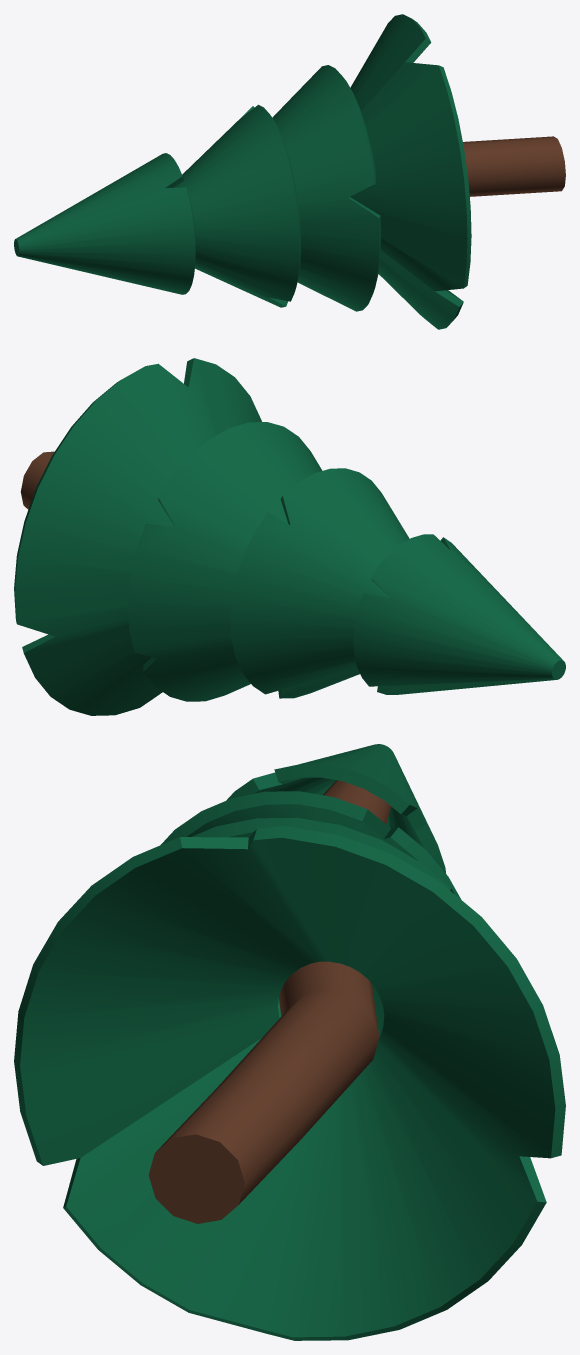
The model's file is Pinheirorotacionado4.fbx.
The picture shows the model from 3 angles, top to bottom: view 1: azimuth 30°, elevation 25°; view 2: azimuth 150°, elevation 25°; view 3: azimuth 270°, elevation 25°; orthographic projection. The views are drawn at different scales.
Parts seen in each view (by area): view 1: Circle; view 2: Circle; view 3: Circle.
Part boxes in pixels (left/top/right/bottom): Circle: left=14, top=14, right=565, bottom=329; Circle: left=14, top=358, right=565, bottom=715; Circle: left=14, top=744, right=565, bottom=1340.
Bounding box in the file's own units: 1562 × 867 × 845.
